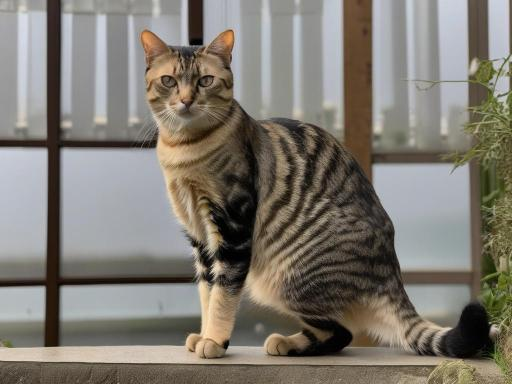cat_sitting: (141, 30, 496, 358)
